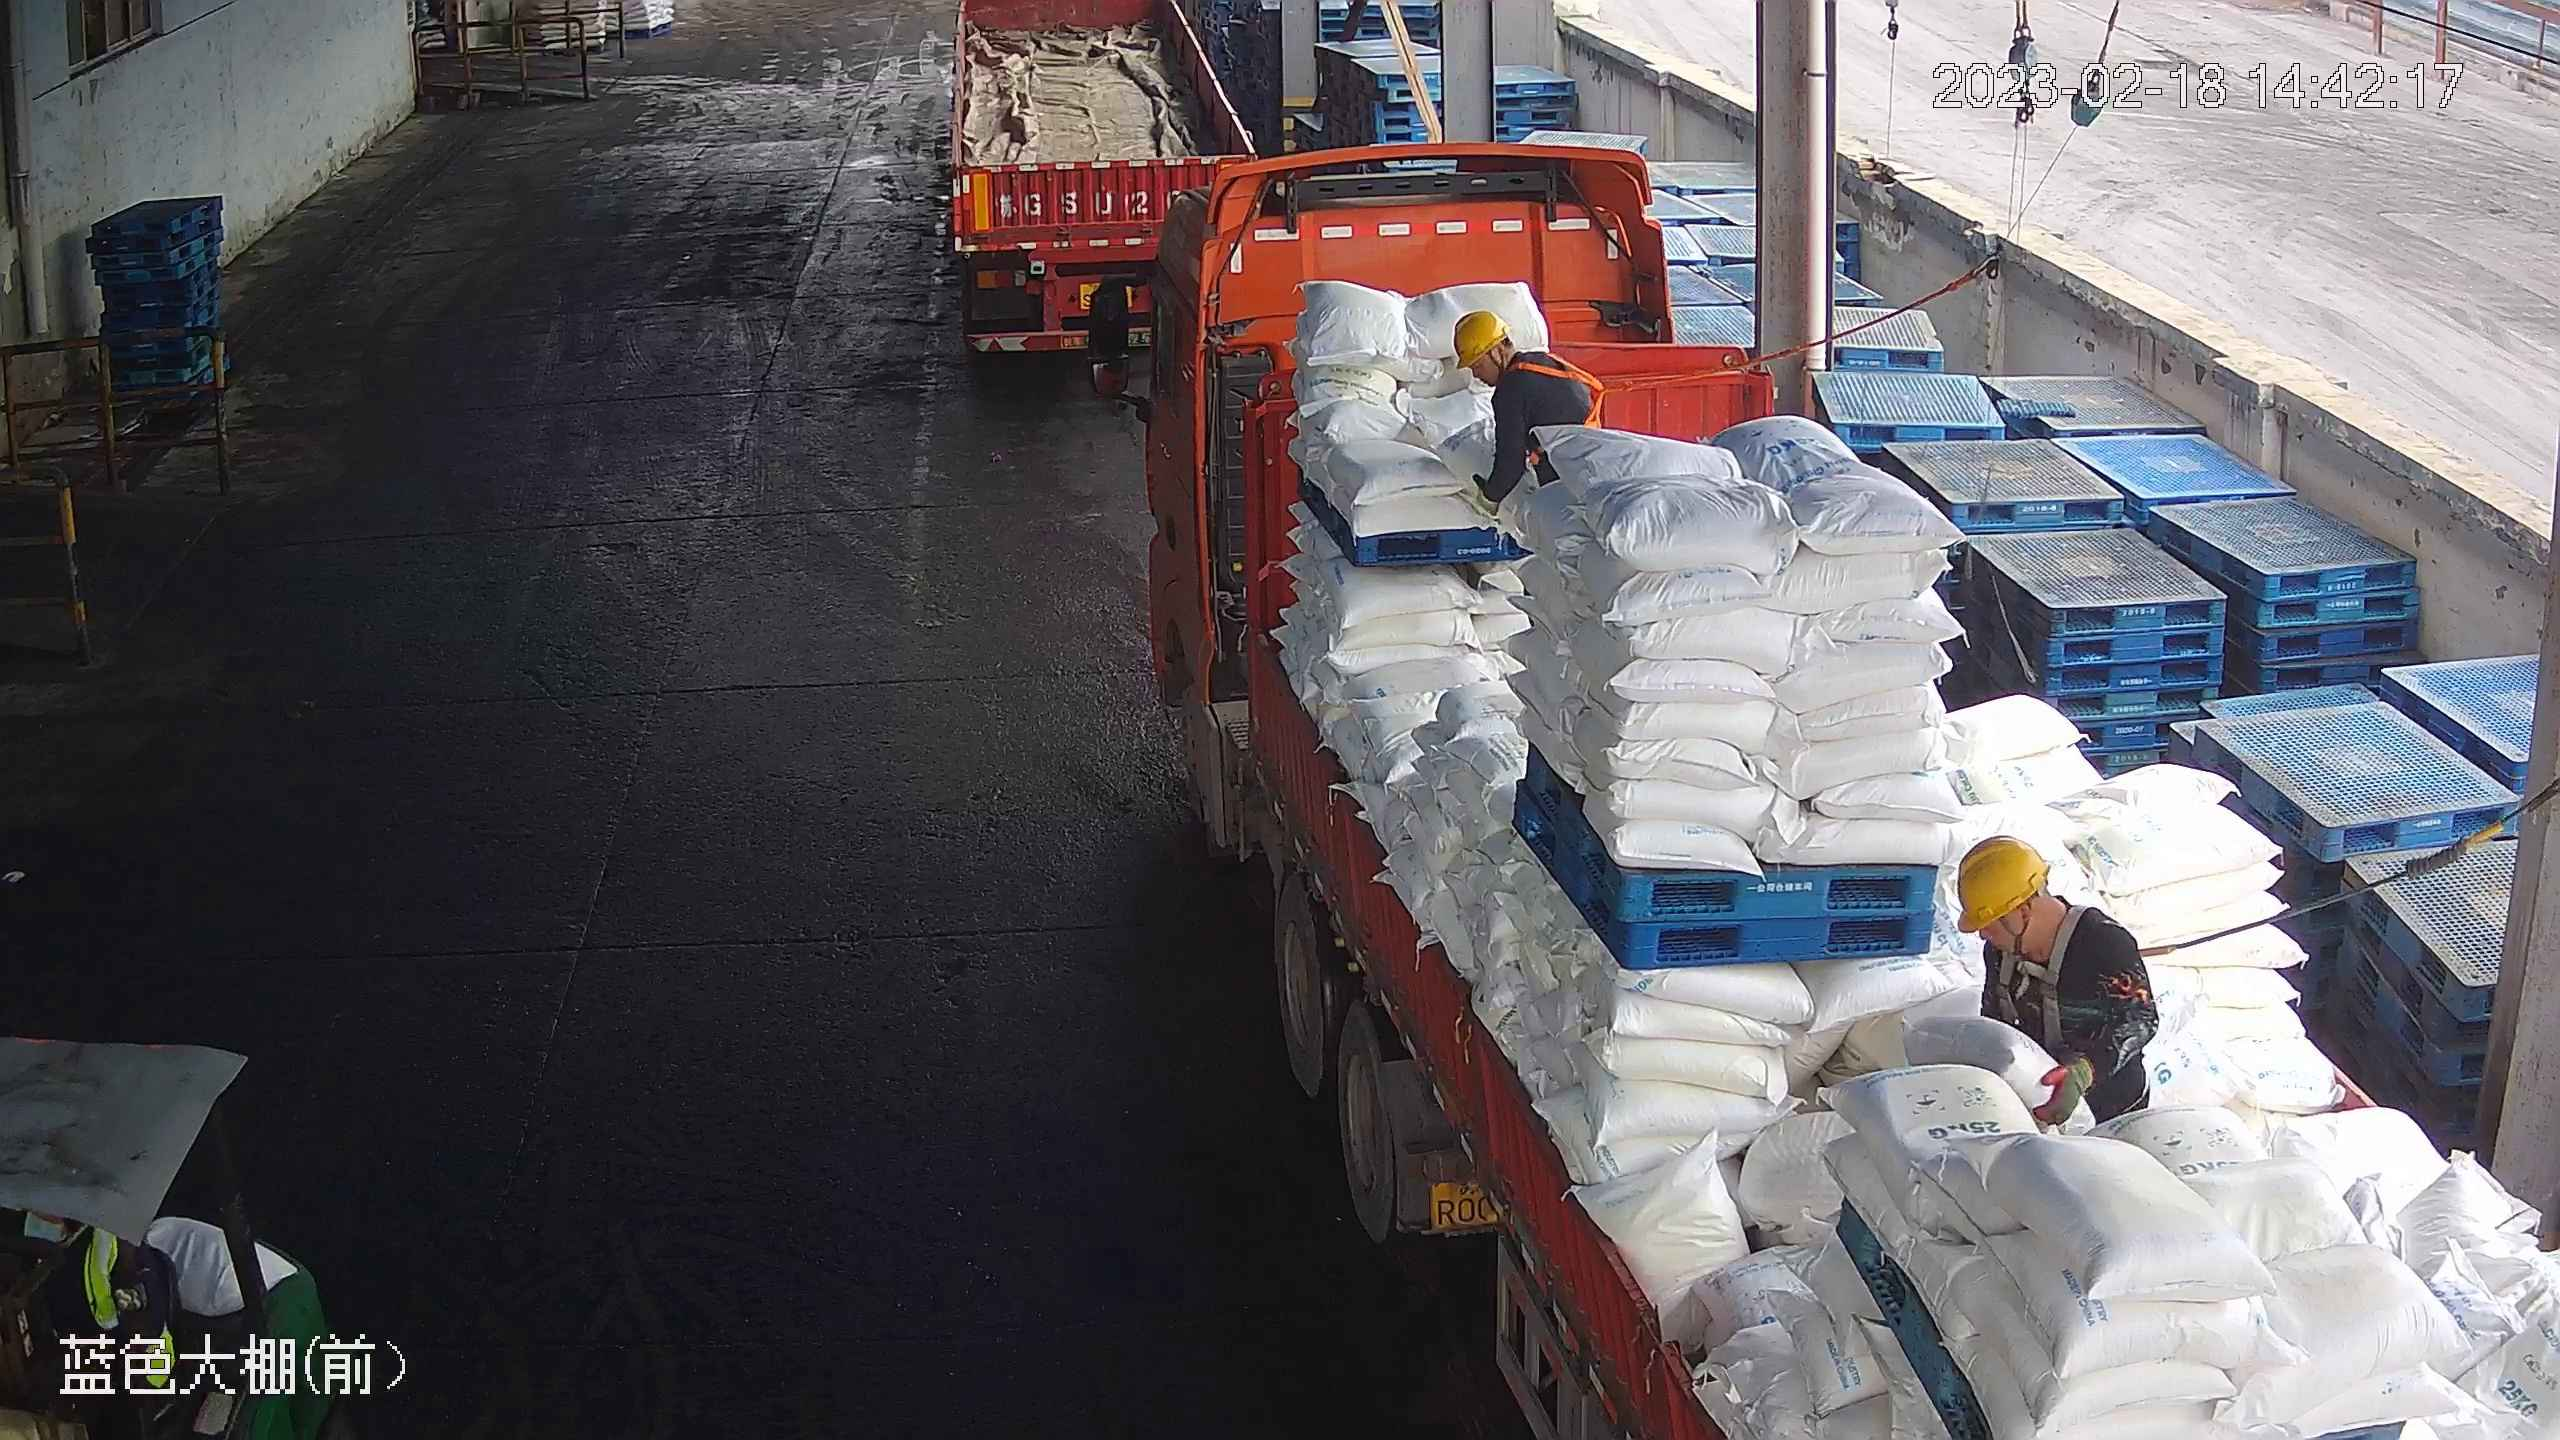belt: (1996, 908, 2099, 1028), (1510, 350, 1603, 421)
head: (1950, 832, 2136, 991), (1452, 307, 1572, 404)
helmet: (1949, 832, 2055, 929), (1450, 305, 1508, 368)
people: (1946, 830, 2161, 1134), (1451, 308, 1606, 515)
truck: (1086, 135, 2550, 1440), (943, 3, 1264, 365)
